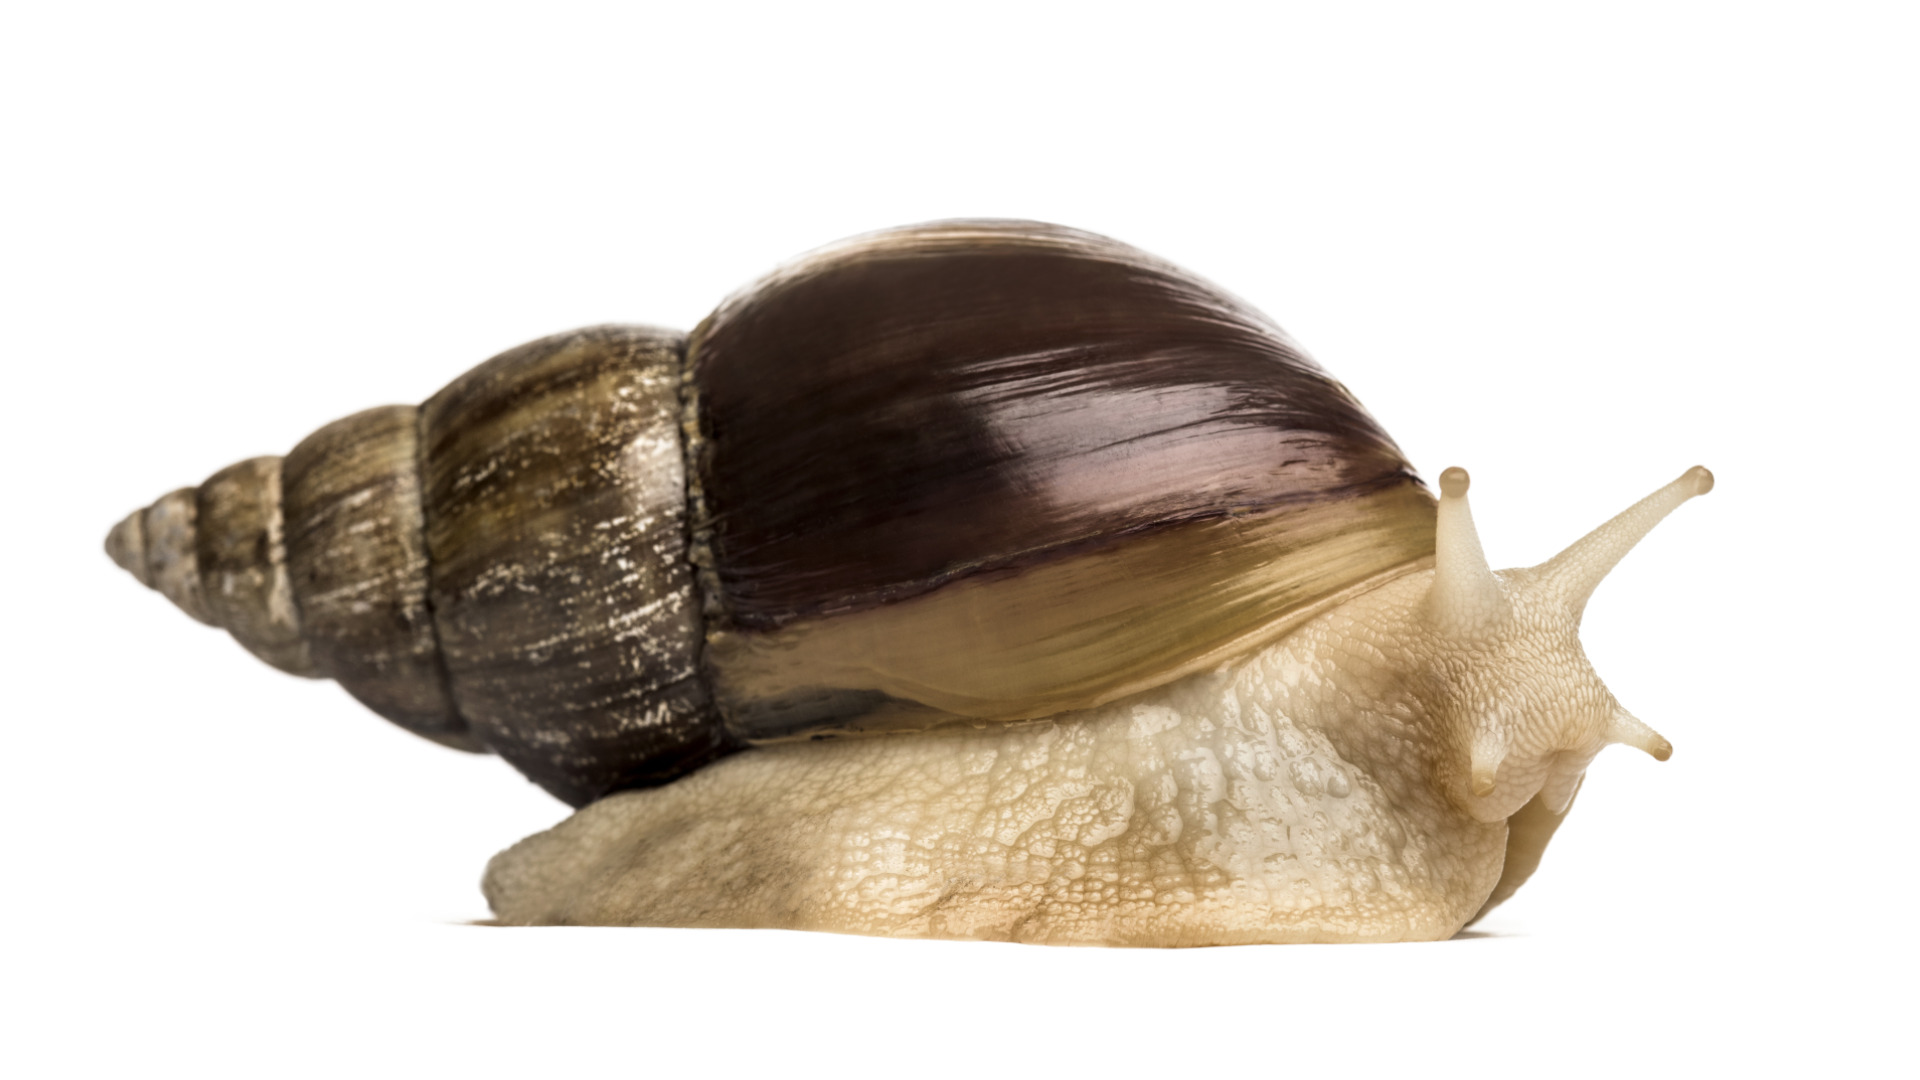snail: (102, 211, 1733, 944)
